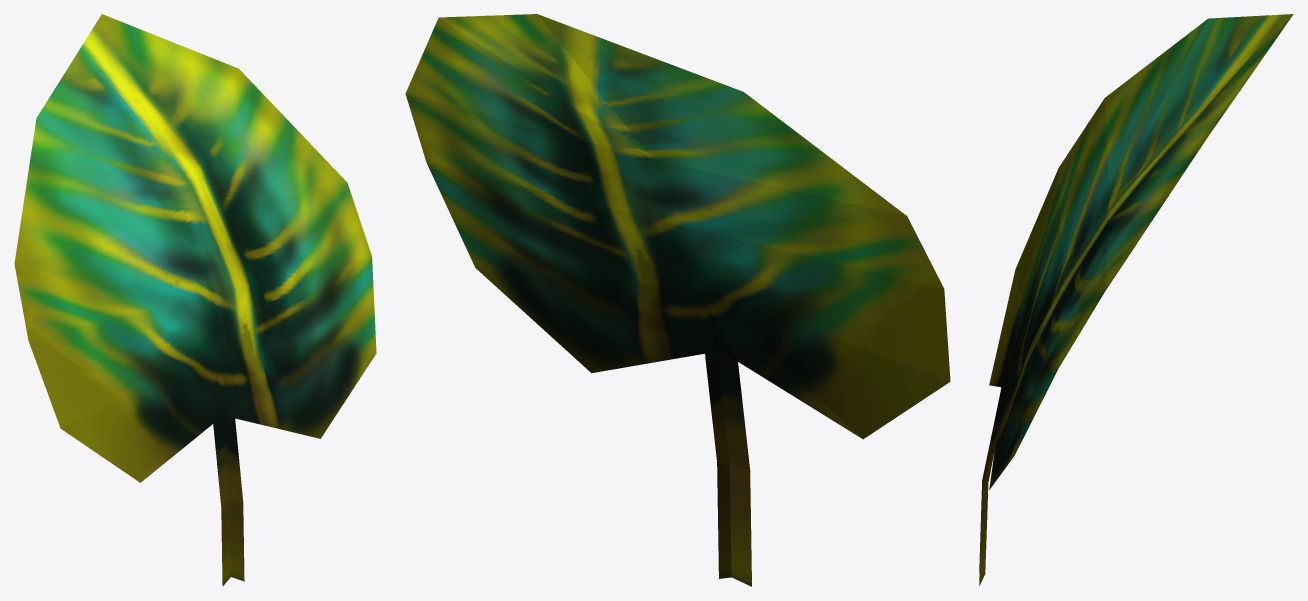
Rendered from Leaf.dae.
3 views of the same model, side by side, from view 1: azimuth 30°, elevation 25°; view 2: azimuth 150°, elevation 25°; view 3: azimuth 270°, elevation 25° (orthographic). The views are drawn at different scales.
Visible parts, largest first — view 1: Plane; view 2: Plane; view 3: Plane.
Boxes of the visible parts, box(x1,y1,x2,y2) form: Plane: box(14, 14, 376, 586); Plane: box(405, 14, 950, 586); Plane: box(979, 14, 1293, 585).
Bounding box in the file's own units: 3 × 1.99 × 3.95.
